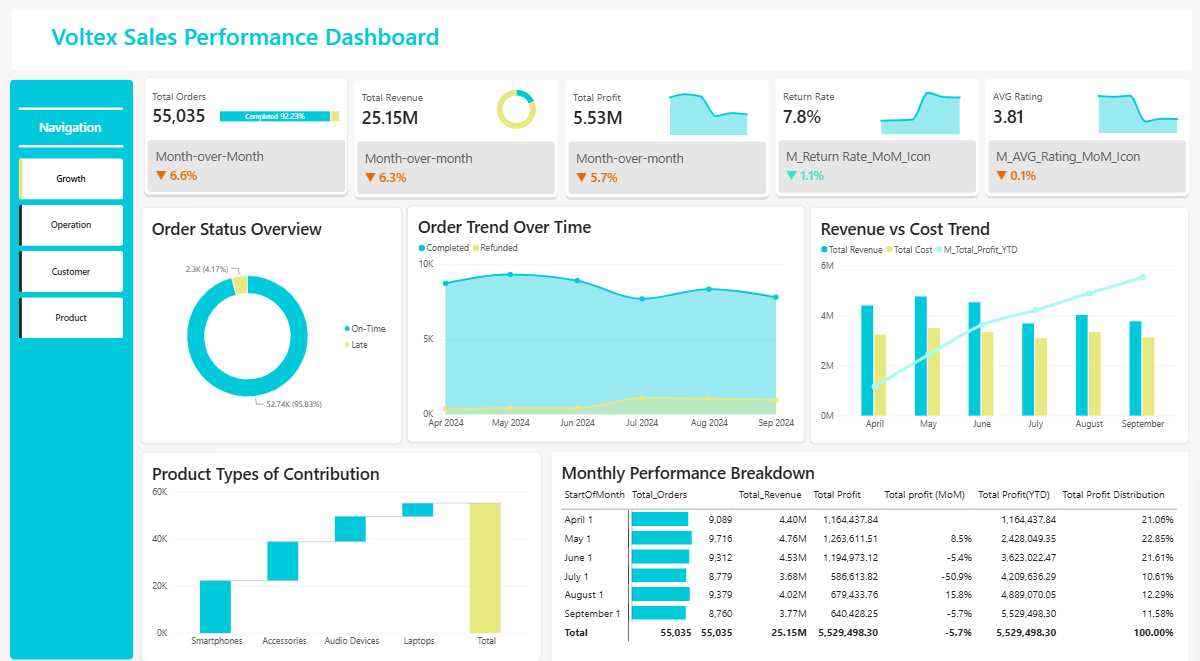

The page's visual inventory and layout, read from the dashboard file:
{"tool":"powerbi","page":{"name":"Growth","canvas":[1920,1080],"ordinal":0},"visuals":[{"type":"donutChart","title":"Order Status Overview","fields":{"Category":["fact_order.delivery_status"],"Y":["CountNonNull(fact_order.Order_Quantity)"]},"box":[226.7,336.7,417.1,378.6],"z":0},{"type":"lineClusteredColumnComboChart","title":"Revenue vs Cost Trend","fields":{"Category":["dim_calender.StartOfMonth.Variation.Date Hierarchy.Month"],"Y":["*Measure.M_Total_Revenue","*Measure.M_Total_Cost"],"Y2":["*Measure.M_Total_Profit_YTD"]},"box":[1295.7,335.7,605.7,378.6],"z":1000},{"type":"waterfallChart","title":"Product Types of Contribution","fields":{"Category":["dim_product.Product_Category"],"Y":["CountNonNull(fact_order.Order_ID)"]},"box":[226.7,727.5,640,335],"z":2000},{"type":"cardVisual","fields":{"Data":["*Measure.M_Total_Orders"]},"box":[226.7,123.4,335.9,197.4],"z":3000,"group":"g5"},{"type":"shape","box":[15.7,132.9,197.1,928.6],"z":3000},{"type":"shape","box":[17.9,17.9,1889.7,100],"z":4000},{"type":"cardVisual","fields":{"Data":["*Measure.M_Total_Revenue"]},"box":[562.3,127.1,335.9,197.4],"z":5000,"group":"g1"},{"type":"pageNavigator","box":[30,258.6,167.1,291.4],"z":5000},{"type":"cardVisual","fields":{"Data":["*Measure.M_Total_Profit"]},"box":[900.5,127.1,335.9,197.4],"z":6000,"group":"g2"},{"type":"shape","box":[30,158.3,166.7,41.7],"z":6000},{"type":"cardVisual","fields":{"Data":["*Measure.M_Return_Rate"]},"box":[1236.1,127.1,335.9,197.4],"z":7000,"group":"g3"},{"type":"shape","box":[30,217.1,167.1,41.4],"z":7000},{"type":"cardVisual","fields":{"Data":["*Measure.M_AVG_Rating"]},"box":[1571.8,127.1,335.9,197.4],"z":8000,"group":"g4"},{"type":"actionButton","title":"Navigation","box":[40,194.3,144.3,40],"z":8000},{"type":"actionButton","box":[0,5.7,715.7,112.9],"z":10000},{"type":"pivotTable","title":"Monthly Performance Breakdown","fields":{"Rows":["dim_calender.StartOfMonth"],"Values":["*Measure.M_Total_Orders","CountNonNull(fact_order.Order_ID)","*Measure.M_Total_Revenue","*Measure.M_Total_Profit","*Measure.M_Total_Profit_MoM_Perc","*Measure.M_Total_Profit_YTD","*Measure.M_Total_Profit_Distribution"]},"box":[882,727.5,1020,334],"z":11000},{"type":"areaChart","title":"Order Trend Over Time","fields":{"Category":["dim_calender.StartOfMonth.Variation.Date Hierarchy.Year","dim_calender.StartOfMonth.Variation.Date Hierarchy.Month"],"Series":["fact_order.Order_Status"],"Y":["Count(fact_order.Order_ID)"]},"box":[652.1,334.3,635.7,378.6],"z":12000},{"type":"group","id":"g1","title":"Group 3","box":[562.3,125.4,338.4,199.1],"z":13000},{"type":"group","id":"g2","title":"Group 4","box":[900.5,119.2,335.9,205.3],"z":14000},{"type":"group","id":"g3","title":"Group 5","box":[1236.1,116.9,335.9,207.6],"z":15000},{"type":"hundredPercentStackedBarChart","fields":{"Series":["fact_order.Order_Status"],"Y":["*Measure.M_Total_Orders"]},"box":[336.4,121.7,222.9,134.3],"z":15000,"group":"g5"},{"type":"group","id":"g4","title":"Group 6","box":[1571.8,116.9,338,207.6],"z":16000},{"type":"donutChart","fields":{"Y":["*Measure.M_Total_Profit","*Measure.M_Total_Revenue"]},"box":[752.2,125.4,148.6,108.6],"z":16000,"group":"g1"},{"type":"stackedAreaChart","fields":{"Category":["dim_calender.StartOfMonth.Variation.Date Hierarchy.Year","dim_calender.StartOfMonth.Variation.Date Hierarchy.Quarter","dim_calender.StartOfMonth.Variation.Date Hierarchy.Month","dim_calender.StartOfMonth.Variation.Date Hierarchy.Day"],"Y":["*Measure.M_Total_Profit"]},"box":[1045.5,119.2,175,117.5],"z":17000,"group":"g2"},{"type":"stackedAreaChart","fields":{"Category":["dim_calender.StartOfMonth.Variation.Date Hierarchy.Year","dim_calender.StartOfMonth.Variation.Date Hierarchy.Quarter","dim_calender.StartOfMonth.Variation.Date Hierarchy.Month","dim_calender.StartOfMonth.Variation.Date Hierarchy.Day"],"Y":["*Measure.M_Return_Rate"]},"box":[1383.9,116.9,177.5,120],"z":18000,"group":"g3"},{"type":"stackedAreaChart","fields":{"Category":["dim_calender.StartOfMonth.Variation.Date Hierarchy.Year","dim_calender.StartOfMonth.Variation.Date Hierarchy.Quarter","dim_calender.StartOfMonth.Variation.Date Hierarchy.Month","dim_calender.StartOfMonth.Variation.Date Hierarchy.Day"],"Y":["*Measure.M_AVG_Rating"]},"box":[1732.3,116.9,177.5,117.5],"z":19000,"group":"g4"},{"type":"group","id":"g5","title":"Group 2","box":[226.7,121.7,335.9,199.1],"z":20001}]}

Visuals, with their boxes in screenshot pixels (x1, y1, x2, y2), scaled from the page's 1920x1080 canvas onto the 1200x661 screenshot:
"Order Status Overview" donutChart: [142, 206, 402, 438]
"Revenue vs Cost Trend" lineClusteredColumnComboChart: [810, 205, 1188, 437]
"Product Types of Contribution" waterfallChart: [142, 445, 542, 650]
cardVisual - *Measure.M_Total_Orders: [142, 76, 352, 196]
shape: [10, 81, 133, 650]
shape: [11, 11, 1192, 72]
cardVisual - *Measure.M_Total_Revenue: [351, 78, 561, 199]
pageNavigator: [19, 158, 123, 337]
cardVisual - *Measure.M_Total_Profit: [563, 78, 773, 199]
shape: [19, 97, 123, 122]
cardVisual - *Measure.M_Return_Rate: [773, 78, 982, 199]
shape: [19, 133, 123, 158]
cardVisual - *Measure.M_AVG_Rating: [982, 78, 1192, 199]
"Navigation" actionButton: [25, 119, 115, 143]
actionButton: [0, 3, 447, 73]
"Monthly Performance Breakdown" pivotTable: [551, 445, 1189, 650]
"Order Trend Over Time" areaChart: [408, 205, 805, 436]
"Group 3" group: [351, 77, 563, 199]
"Group 4" group: [563, 73, 773, 199]
"Group 5" group: [773, 72, 982, 199]
hundredPercentStackedBarChart - fact_order.Order_Status x *Measure.M_Total_Orders: [210, 74, 350, 157]
"Group 6" group: [982, 72, 1194, 199]
donutChart - *Measure.M_Total_Profit x *Measure.M_Total_Revenue: [470, 77, 563, 143]
stackedAreaChart - dim_calender.StartOfMonth.Variation.Date Hierarchy.Year x dim_calender.StartOfMonth.Variation.Date Hierarchy.Quarter: [653, 73, 763, 145]
stackedAreaChart - dim_calender.StartOfMonth.Variation.Date Hierarchy.Year x dim_calender.StartOfMonth.Variation.Date Hierarchy.Quarter: [865, 72, 976, 145]
stackedAreaChart - dim_calender.StartOfMonth.Variation.Date Hierarchy.Year x dim_calender.StartOfMonth.Variation.Date Hierarchy.Quarter: [1083, 72, 1194, 143]
"Group 2" group: [142, 74, 352, 196]
